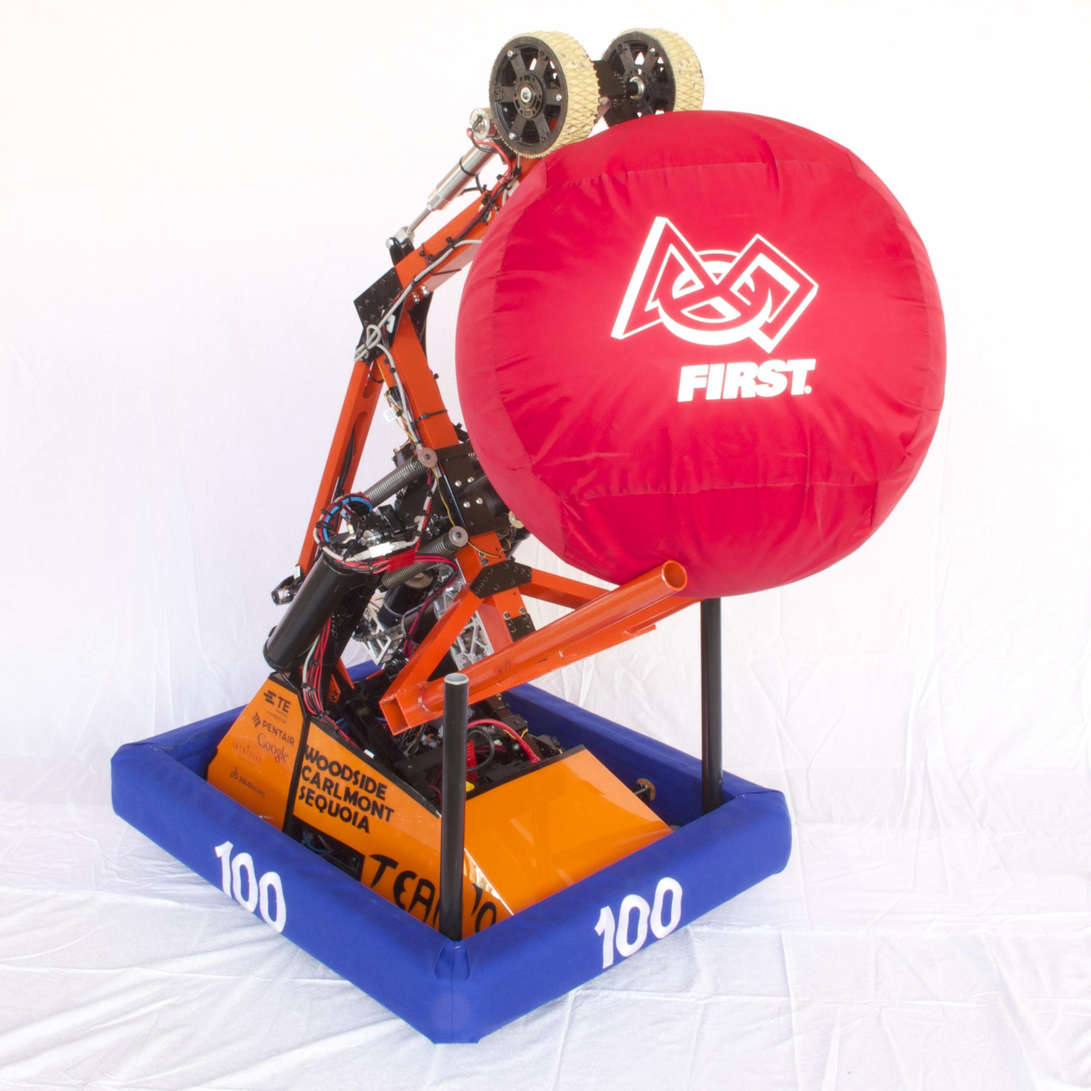robot: (106, 28, 807, 1052)
